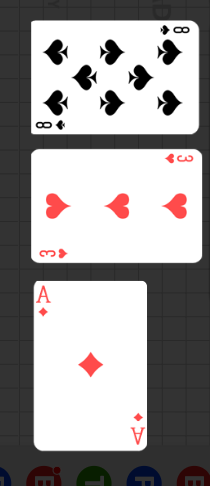10S: (157, 24, 191, 37)
AD: (127, 410, 144, 446), (37, 285, 53, 320)
